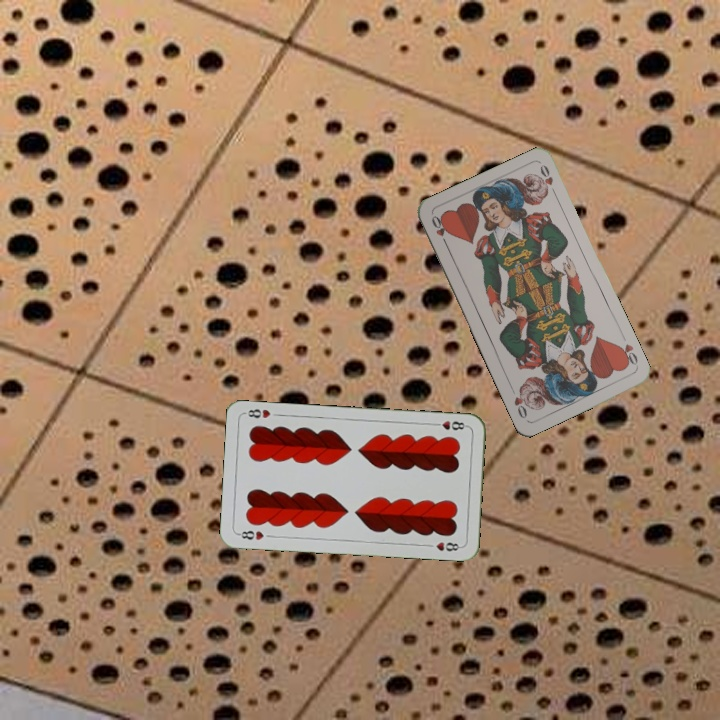H8: (429, 417, 470, 433), (234, 527, 266, 542)
HO: (427, 211, 451, 250), (614, 339, 641, 369)
